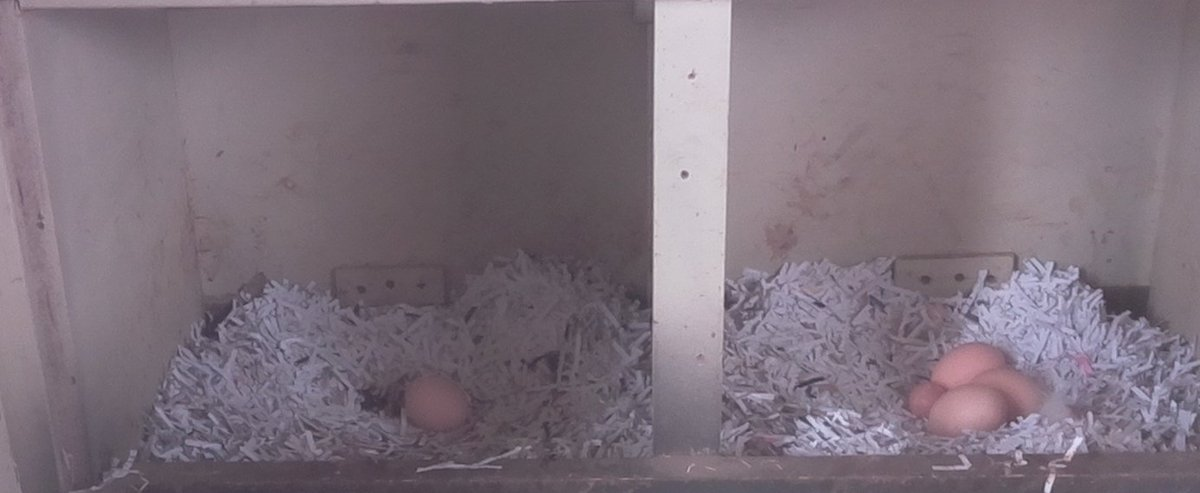egg: (393, 368, 482, 440), (926, 382, 1016, 442), (966, 364, 1051, 415), (930, 340, 1008, 390), (904, 374, 952, 424)
